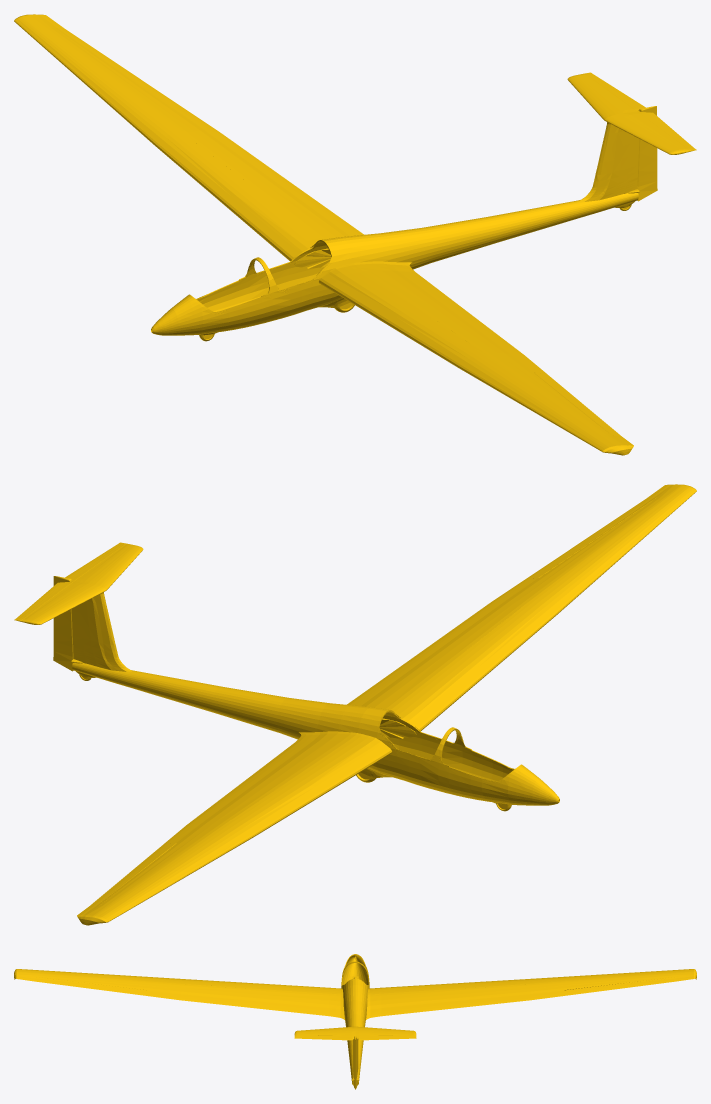
3 views of the same model, one above another, from view 1: azimuth 30°, elevation 25°; view 2: azimuth 150°, elevation 25°; view 3: azimuth 270°, elevation 25° (orthographic). The views are drawn at different scales.
Bounding box in the file's own units: 8.33 × 2.06 × 16.91.
